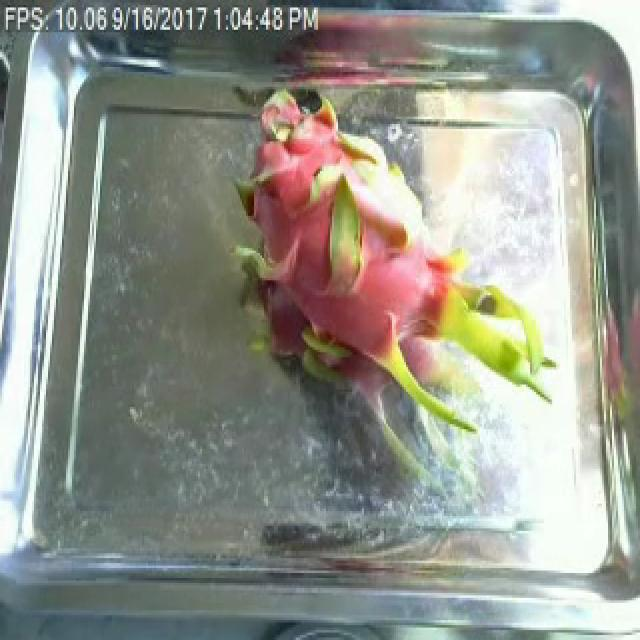fruit: (212, 69, 568, 484)
